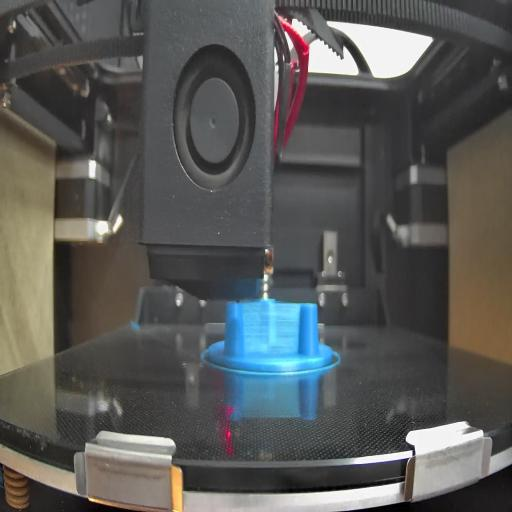stringing: (244, 302, 302, 354)
